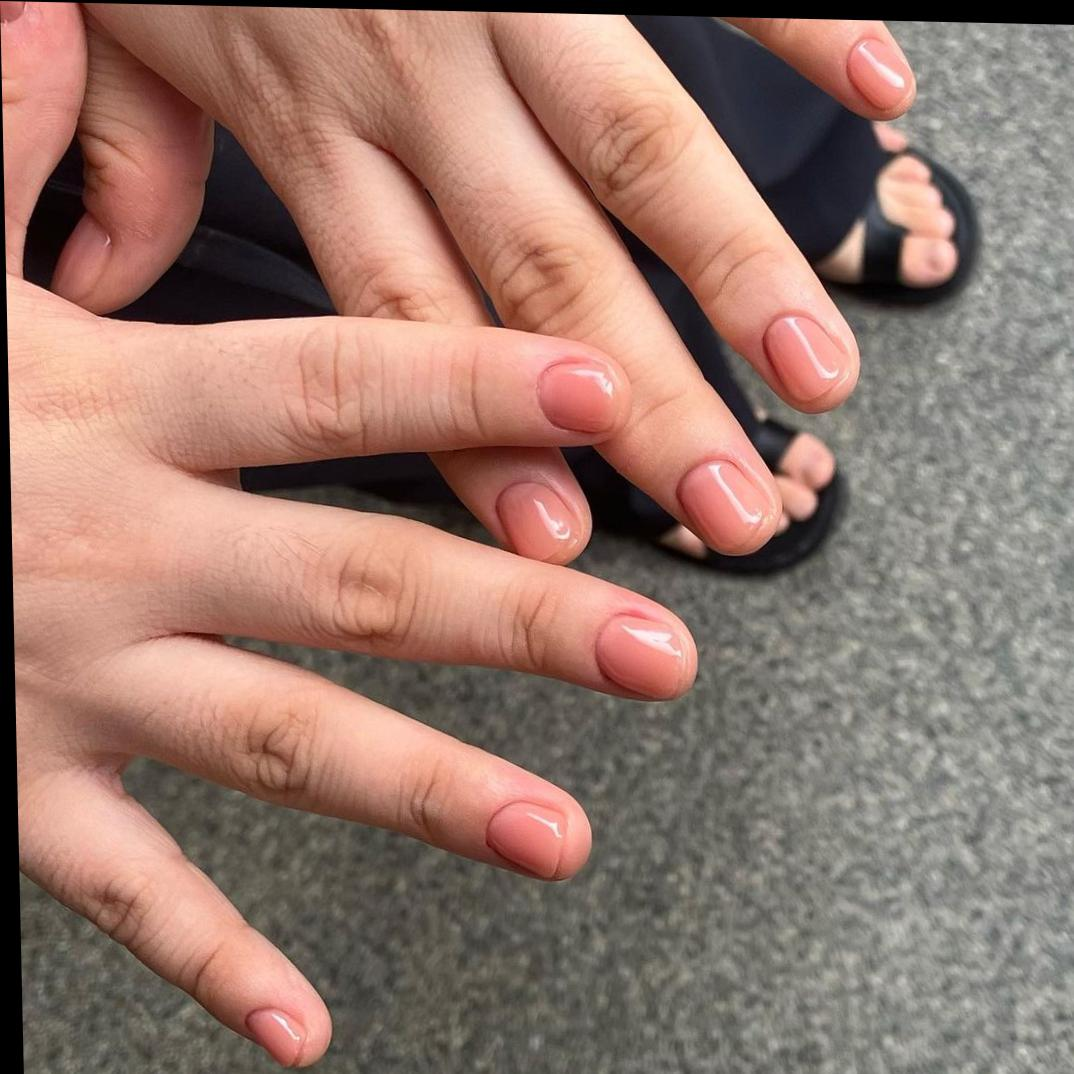nail: (673, 456, 785, 556), (591, 608, 698, 700), (758, 309, 856, 404), (492, 478, 586, 564), (534, 354, 628, 434), (482, 796, 568, 878), (843, 34, 915, 110), (242, 1005, 306, 1066)
